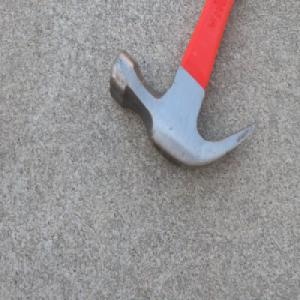Hammer: (108, 0, 261, 173)
